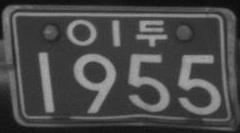0: (66, 19, 97, 46)
1: (28, 51, 64, 113), (103, 19, 131, 47)
5: (176, 53, 222, 116), (127, 53, 171, 112)
9: (72, 52, 117, 114)
두: (135, 18, 168, 47)
